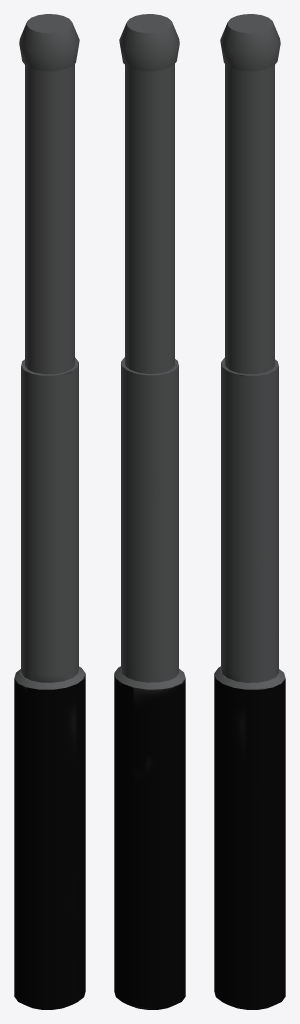
File: keibou.fbx
3 views of the same model, side by side, from view 1: azimuth 30°, elevation 25°; view 2: azimuth 150°, elevation 25°; view 3: azimuth 330°, elevation 25° (orthographic).
Parts seen in each view (by area): view 1: 円柱.001; view 2: 円柱.001; view 3: 円柱.001.
Boxes of the visible parts, x1=… form: 円柱.001: x1=14, y1=14, x2=85, y2=1009; 円柱.001: x1=114, y1=14, x2=185, y2=1009; 円柱.001: x1=214, y1=14, x2=285, y2=1009.
Size of the model in its own units: 12.72 by 187 by 11.42.
